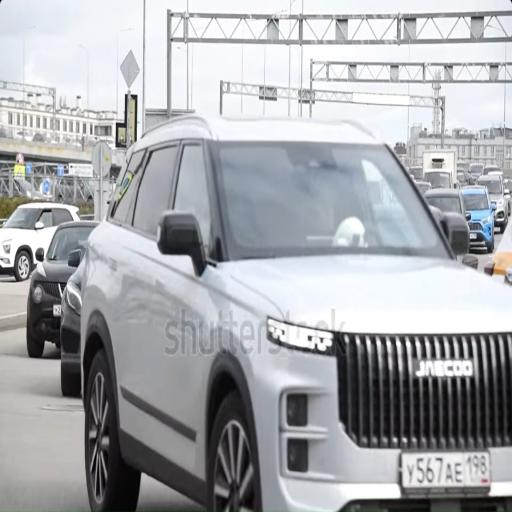License plates: (401, 451, 490, 491), (53, 305, 61, 316), (470, 233, 476, 239)
